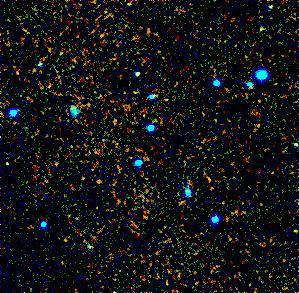star: (106, 111, 136, 141)
